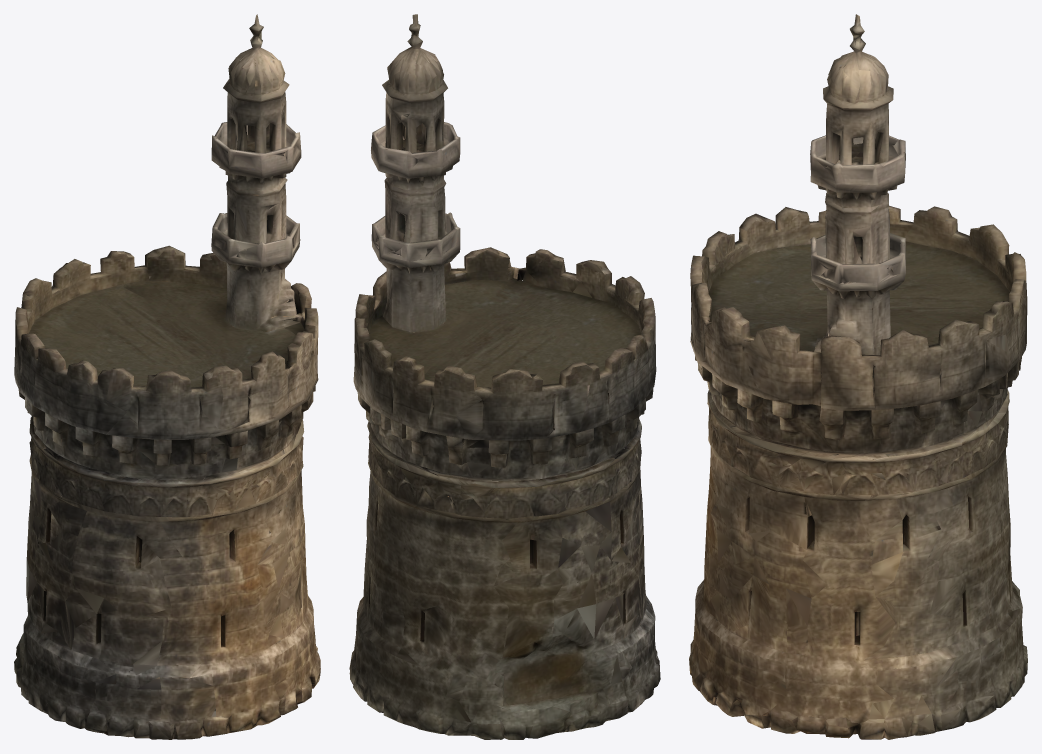
File: cai_gate_tower.glb
The picture shows the model from 3 angles, left to right: view 1: azimuth 30°, elevation 25°; view 2: azimuth 150°, elevation 25°; view 3: azimuth 270°, elevation 25°; orthographic projection. The views are drawn at different scales.
Visible parts, largest first — view 1: prop; view 2: prop; view 3: prop.
Part boxes in pixels (x1,y1,x2,y2): prop: [14, 14, 320, 739]; prop: [349, 14, 660, 739]; prop: [689, 14, 1027, 739].
Size of the model in its own units: 9.59 by 22 by 9.6.
Materials: 1 (1 with a texture image).
